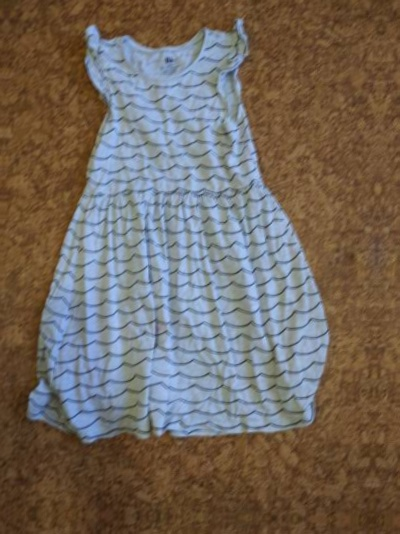Dress: (7, 0, 349, 467)
